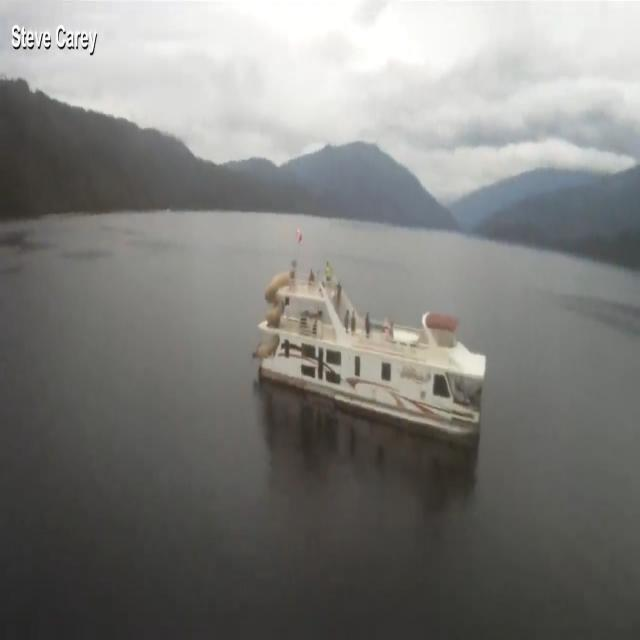Vehicle: (254, 224, 488, 443)
